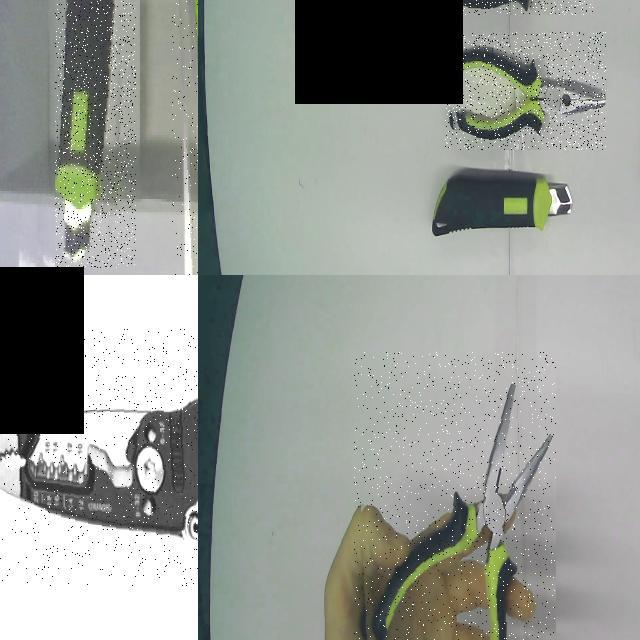estilete: (55, 0, 113, 264), (432, 168, 572, 235)
